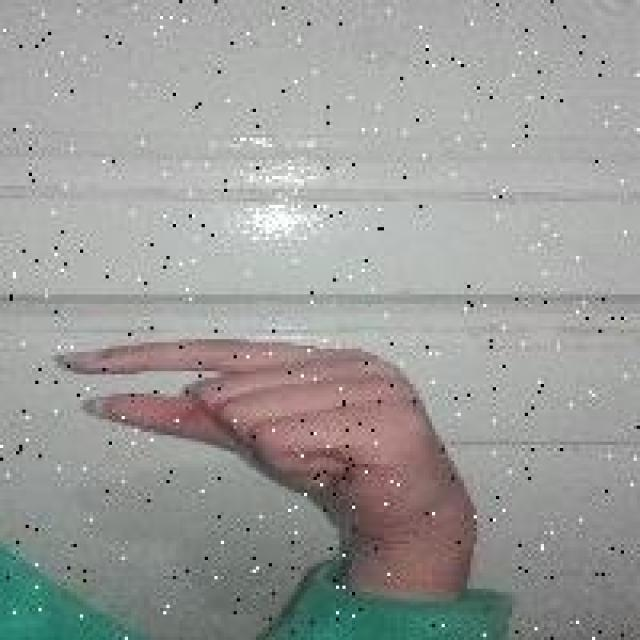G: (51, 336, 477, 563)
